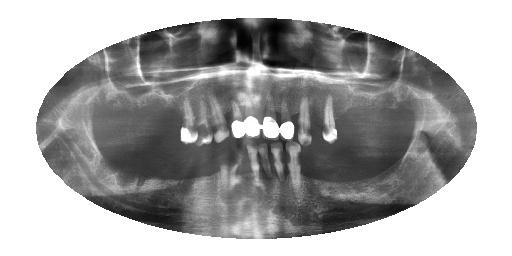Cavity: (210, 95, 230, 143), (285, 142, 303, 193), (321, 95, 339, 144), (297, 97, 314, 147), (195, 100, 213, 145), (270, 139, 285, 180), (246, 143, 261, 180), (219, 153, 229, 188)
